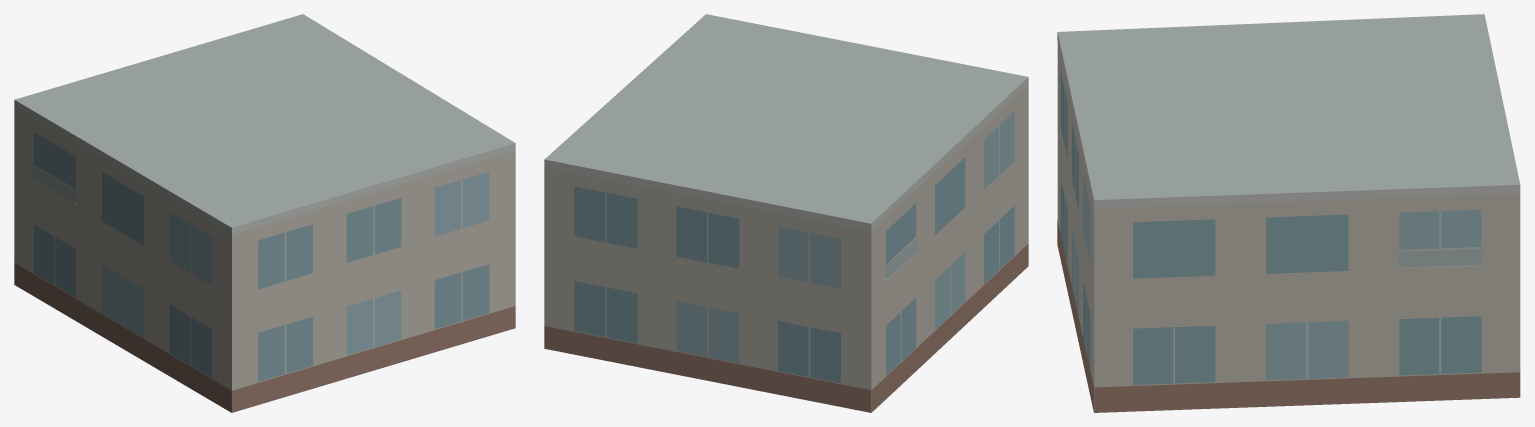
Rendered from survey-upis-32994091.glb.
3 views of the same model, side by side, from view 1: azimuth 30°, elevation 25°; view 2: azimuth 150°, elevation 25°; view 3: azimuth 270°, elevation 25° (orthographic). The views are drawn at different scales.
Visible parts, largest first — view 1: survey-upis-32994091.tmp; view 2: survey-upis-32994091.tmp; view 3: survey-upis-32994091.tmp.
Boxes of the visible parts, x1=… form: survey-upis-32994091.tmp: x1=14, y1=14, x2=515, y2=412; survey-upis-32994091.tmp: x1=544, y1=14, x2=1028, y2=412; survey-upis-32994091.tmp: x1=1057, y1=14, x2=1520, y2=412.
Bounding box in the file's own units: 11.44 × 6.1 × 12.03.
